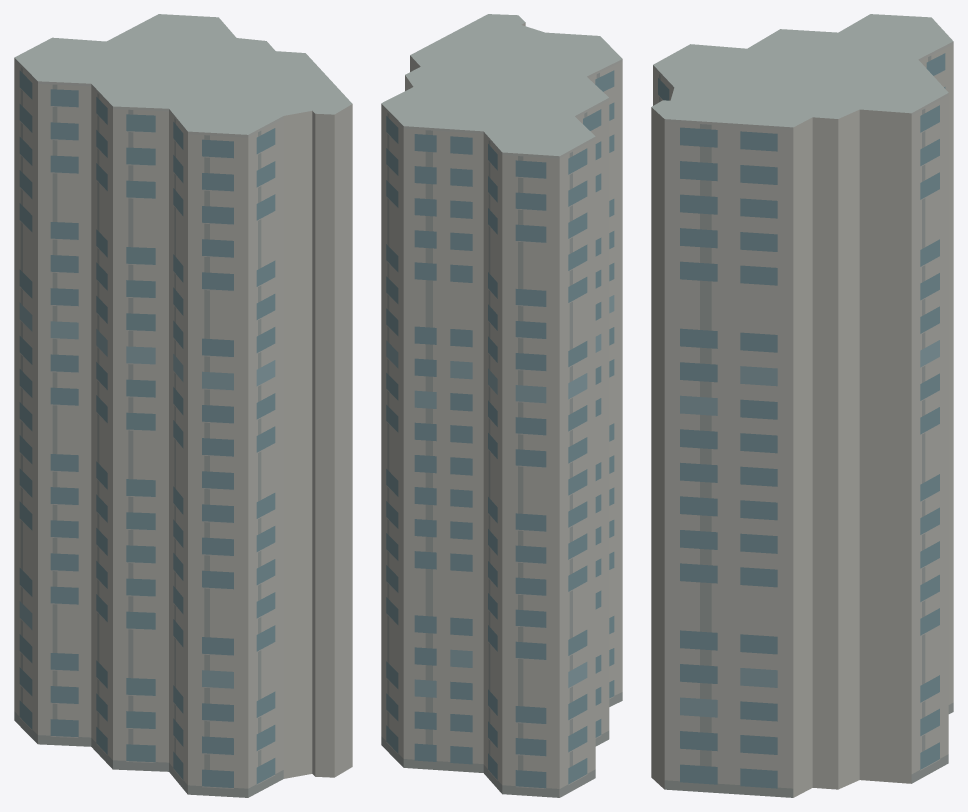
Rendered from survey-upis-32704408.glb.
The picture shows the model from 3 angles, left to right: view 1: azimuth 30°, elevation 25°; view 2: azimuth 150°, elevation 25°; view 3: azimuth 270°, elevation 25°; orthographic projection. The views are drawn at different scales.
Parts seen in each view (by area): view 1: survey-upis-32704408.tmp; view 2: survey-upis-32704408.tmp; view 3: survey-upis-32704408.tmp.
Part boxes in pixels (<box>): survey-upis-32704408.tmp: <box>14,14,352,797</box>; survey-upis-32704408.tmp: <box>381,14,622,797</box>; survey-upis-32704408.tmp: <box>651,14,953,797</box>.
Bounding box in the file's own units: 22.13 × 61 × 24.92.
